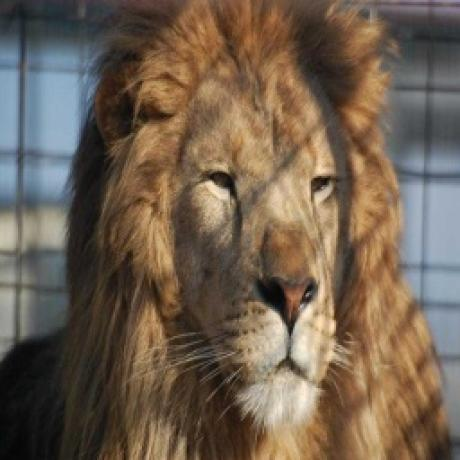Lion: (0, 0, 457, 460)
